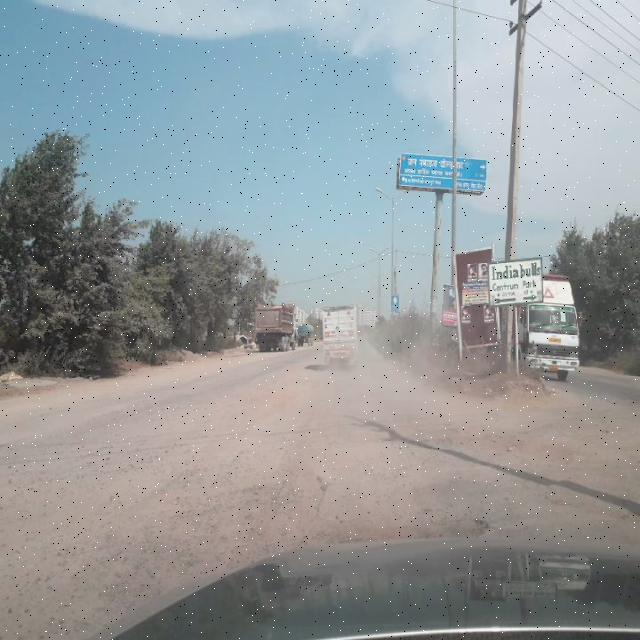D40: (0, 447, 507, 540), (0, 535, 276, 639), (419, 417, 601, 481)
